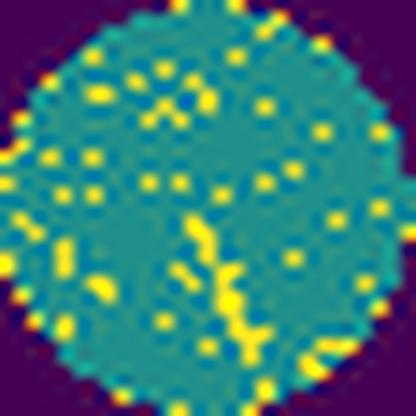Scratch: (180, 212, 274, 371)
